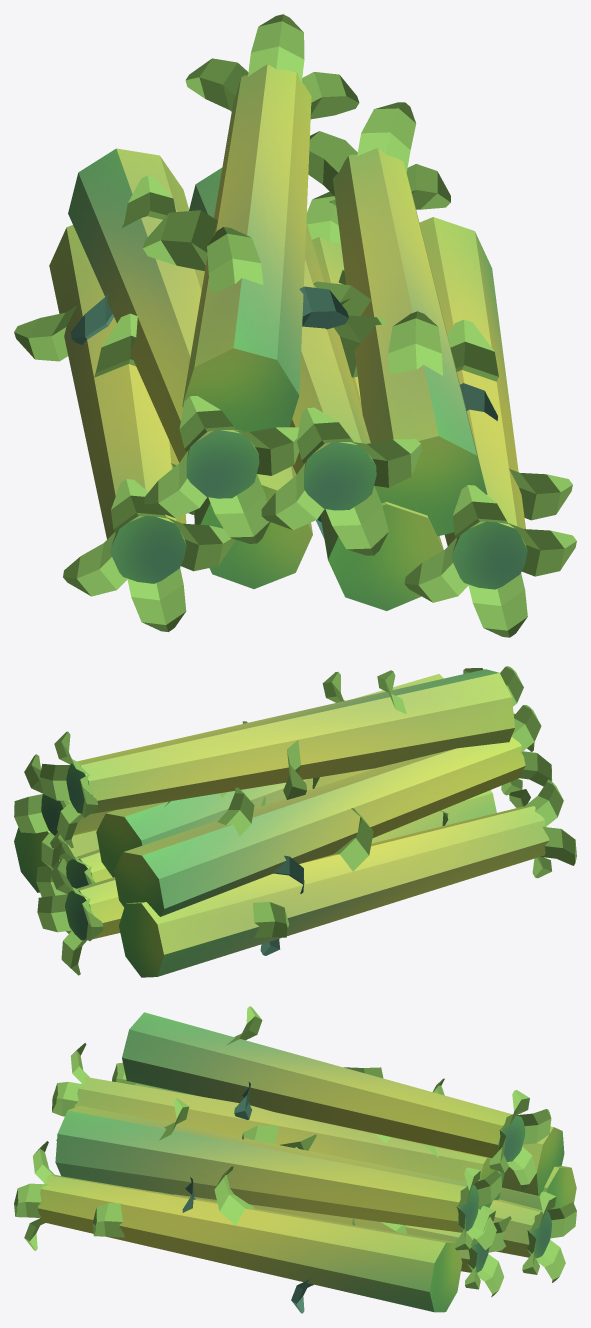
Rendered from banana_logs.fbx.
3 renders of one model, top to bottom at view 1: azimuth 30°, elevation 25°; view 2: azimuth 150°, elevation 25°; view 3: azimuth 270°, elevation 25°, orthographic. The views are drawn at different scales.
Parts seen in each view (by area): view 1: Cylinder.006; view 2: Cylinder.006; view 3: Cylinder.006.
Boxes of the visible parts, bbox=[...] form: Cylinder.006: bbox=[14, 14, 576, 637]; Cylinder.006: bbox=[14, 666, 576, 977]; Cylinder.006: bbox=[14, 1006, 576, 1313].
Size of the model in its own units: 269 by 136 by 327.
